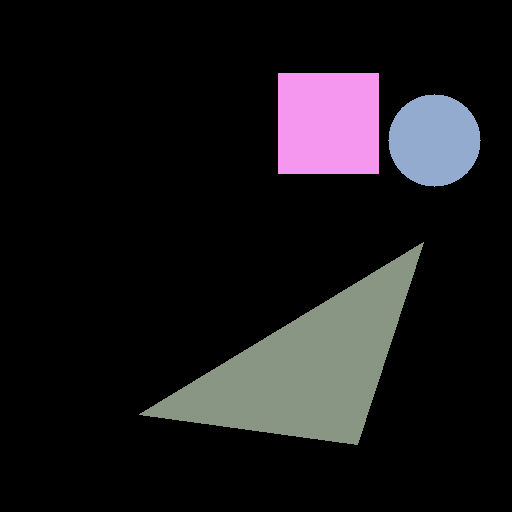circle: (388, 94, 480, 186)
square: (278, 73, 378, 173)
triangle: (139, 242, 423, 444)
